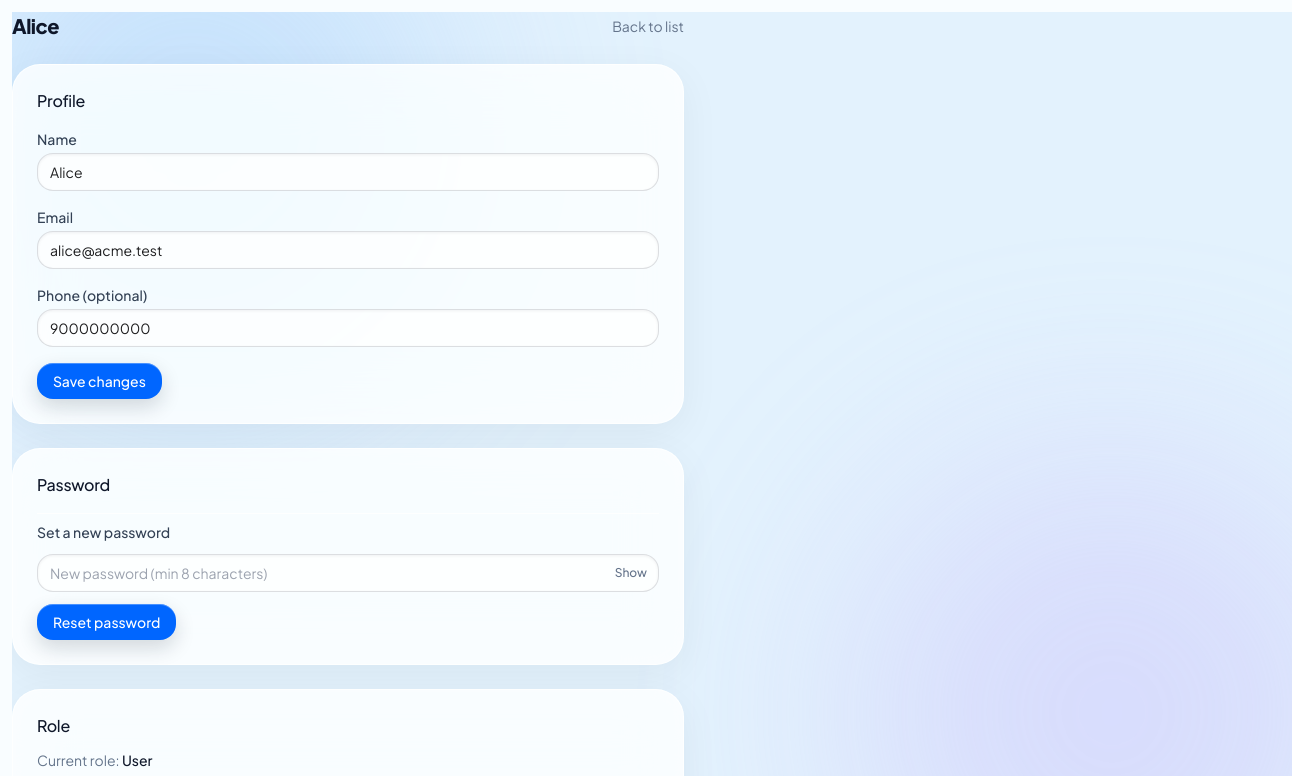
Test: EditUserPage - Phase 2 fixes › keeps the form on screen after saving (no Loading flash) and shows the notice
Expected: the heading "Alice" is shown, [12, 12, 59, 40]
Click the button "Save changes" at (99, 381), box [37, 363, 162, 399]
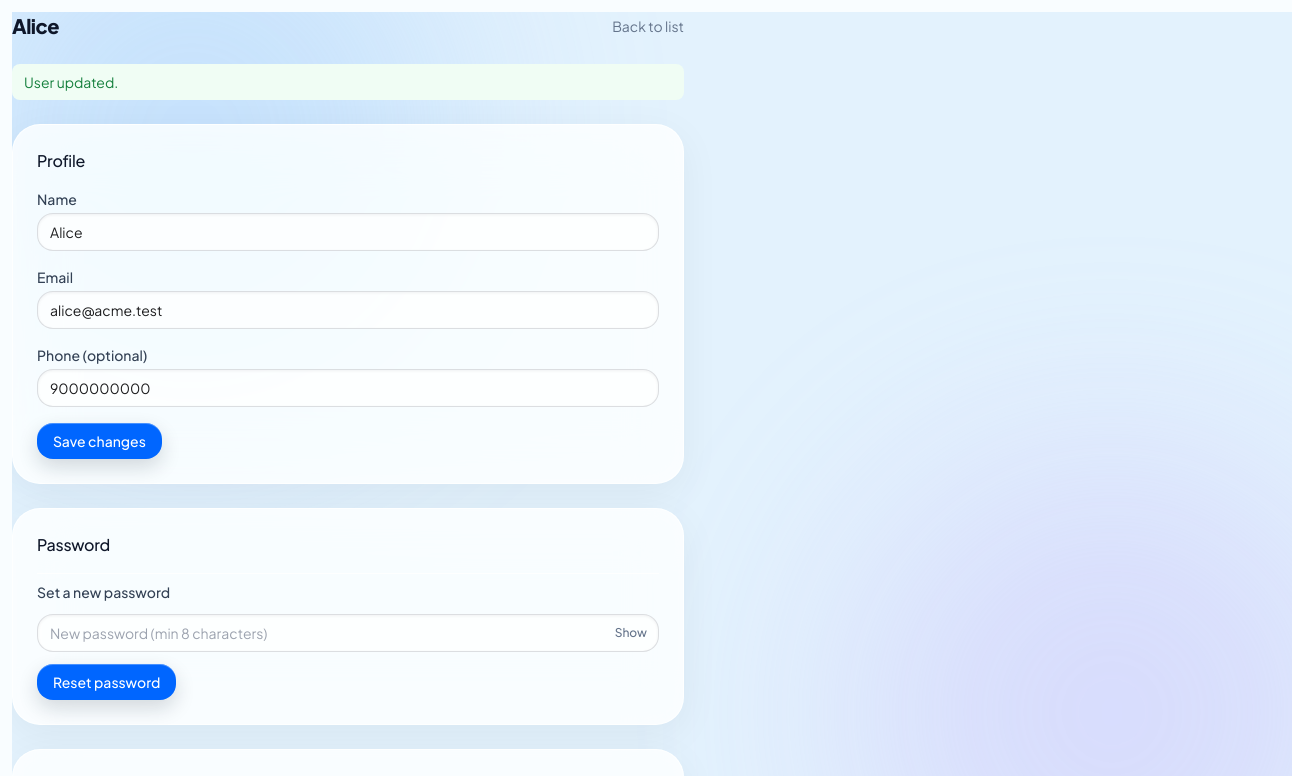
Now the text "User updated." is shown, box [12, 64, 684, 100]
